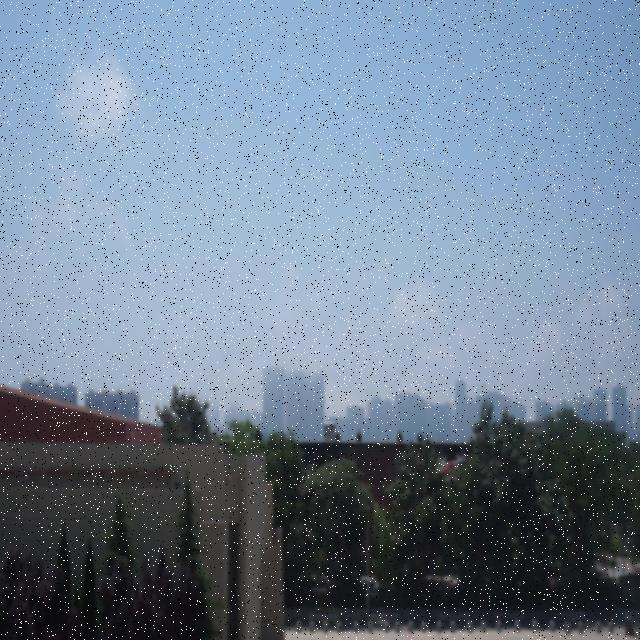UAV: (435, 454, 466, 483)
